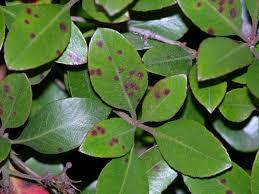healthy_leaf: (156, 117, 239, 180)
leaf_spot: (88, 31, 147, 115), (19, 4, 73, 71), (81, 120, 135, 164), (195, 2, 244, 37), (0, 77, 26, 129)
